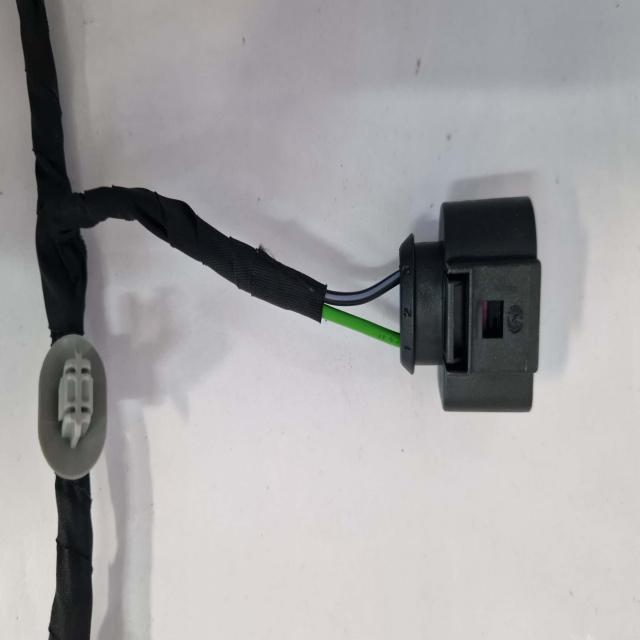Clip: (39, 337, 107, 481)
Connector: (401, 198, 541, 411)
Gape: (324, 272, 402, 350)
MHEV_N11_Cable: (19, 29, 326, 340), (47, 447, 93, 640)
